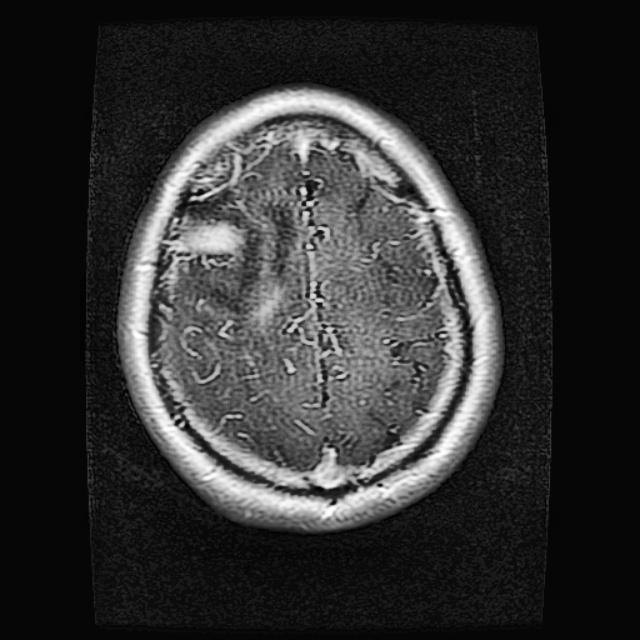Pituitary: (178, 218, 250, 264)
